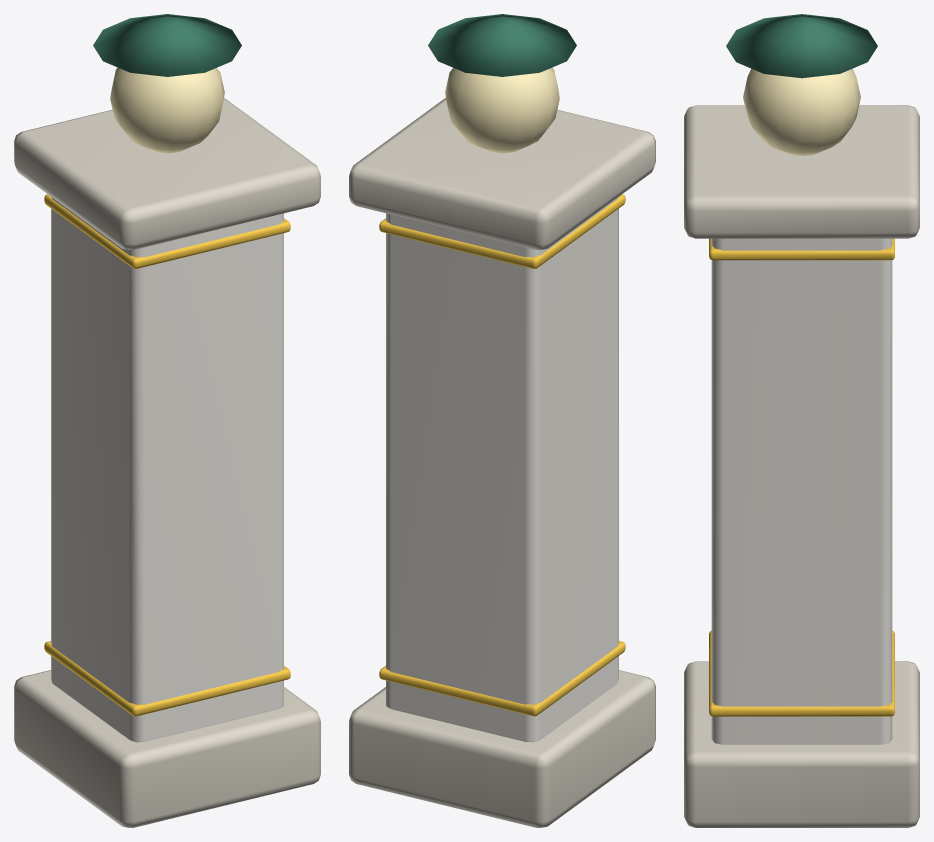
File: marble_gate_pillar.glb
3 renders of one model, left to right at view 1: azimuth 30°, elevation 25°; view 2: azimuth 150°, elevation 25°; view 3: azimuth 270°, elevation 25°, orthographic.
Size of the model in its own units: 0.9001 by 3.2 by 0.9001.
